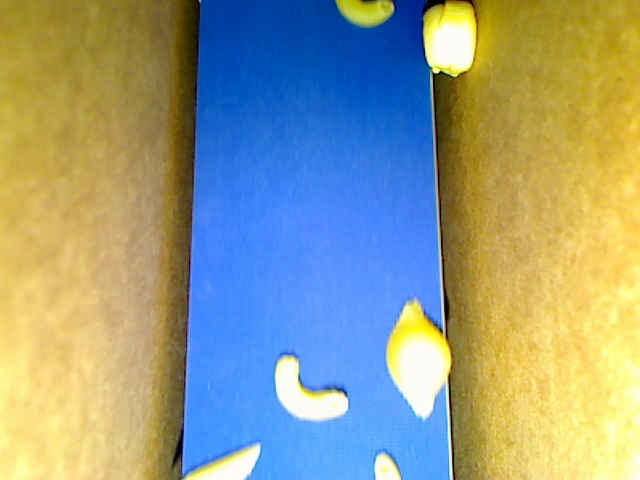elbow: (273, 353, 348, 421), (336, 1, 393, 30)
penne: (182, 442, 260, 479)
shell: (385, 297, 452, 421)
